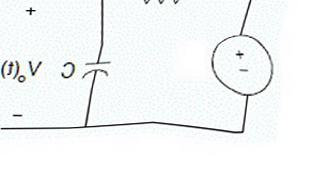Battery: (200, 22, 280, 104)
